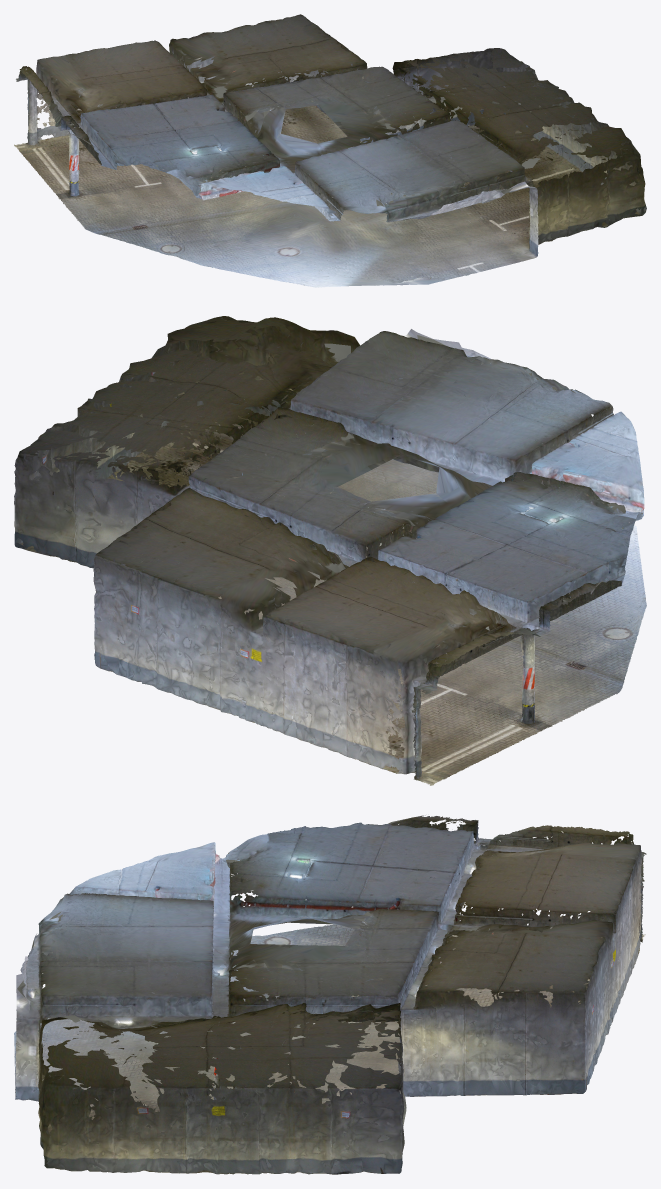
Rendered from garage.glb.
The picture shows the model from 3 angles, top to bottom: view 1: azimuth 30°, elevation 25°; view 2: azimuth 150°, elevation 25°; view 3: azimuth 270°, elevation 25°; orthographic projection. The views are drawn at different scales.
Visible parts, largest first — view 1: Object_4, Object_6, Object_7, Object_2, Object_3, Object_8, Object_5, Object_9; view 2: Object_6, Object_7, Object_3, Object_4, Object_2, Object_8, Object_5, Object_9; view 3: Object_2, Object_4, Object_6, Object_7, Object_3, Object_8, Object_5, Object_9.
Boxes of the visible parts, left/top/right/bottom form: Object_4: left=27, top=20, right=644, bottom=286; Object_6: left=16, top=16, right=645, bottom=285; Object_7: left=20, top=25, right=646, bottom=280; Object_2: left=14, top=14, right=644, bottom=287; Object_3: left=23, top=14, right=608, bottom=276; Object_8: left=22, top=22, right=646, bottom=283; Object_5: left=16, top=17, right=642, bottom=285; Object_9: left=20, top=27, right=645, bottom=285; Object_6: left=43, top=316, right=645, bottom=774; Object_7: left=14, top=330, right=646, bottom=766; Object_3: left=14, top=331, right=631, bottom=758; Object_4: left=14, top=316, right=645, bottom=777; Object_2: left=52, top=316, right=646, bottom=785; Object_8: left=14, top=316, right=642, bottom=771; Object_5: left=15, top=317, right=645, bottom=783; Object_9: left=14, top=321, right=646, bottom=771; Object_2: left=14, top=816, right=645, bottom=1174; Object_4: left=21, top=819, right=641, bottom=1174; Object_6: left=14, top=815, right=646, bottom=1173; Object_7: left=25, top=820, right=641, bottom=1174; Object_3: left=22, top=822, right=640, bottom=1174; Object_8: left=15, top=817, right=636, bottom=1174; Object_5: left=15, top=818, right=643, bottom=1174; Object_9: left=14, top=816, right=642, bottom=1174.
Size of the model in its own units: 16.76 by 3.32 by 16.9.
2 materials, 2 textured.
